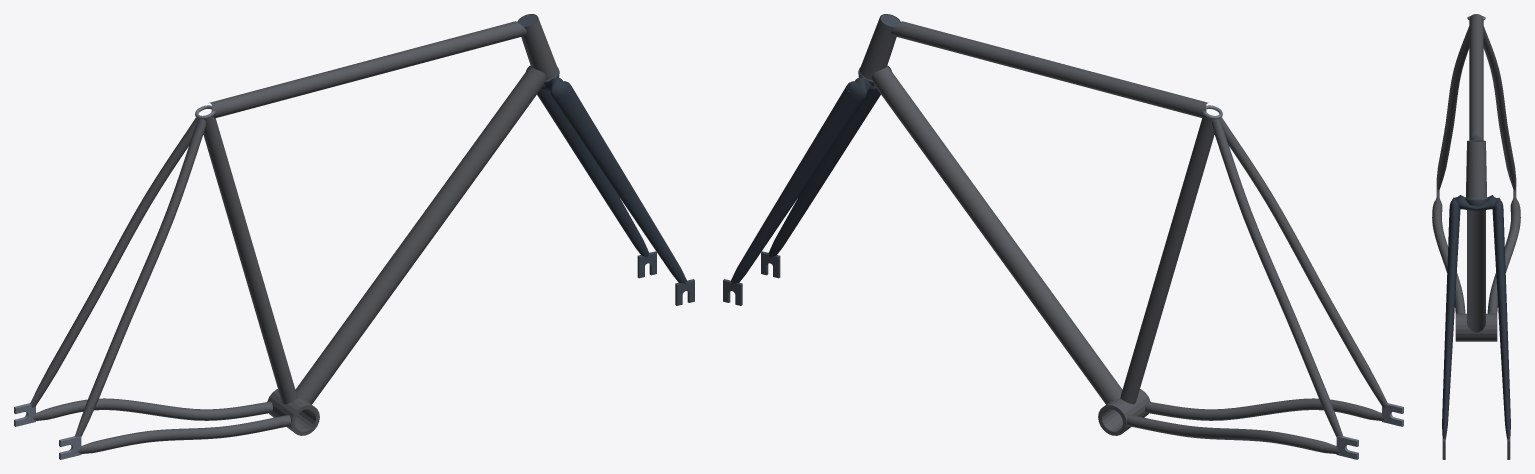
The model's file is wabi-prism-51.glb.
3 views of the same model, side by side, from view 1: azimuth 30°, elevation 25°; view 2: azimuth 150°, elevation 25°; view 3: azimuth 270°, elevation 25° (orthographic). The views are drawn at different scales.
Visible parts, largest first — view 1: paint_down, paint_top, paint_seat, fork_blade_1, paint_seatstay_1, paint_seatstay_-1, paint_chainstay_-1, paint_chainstay_1, fork_blade_-1, paint_bottom_bracket, paint_head; view 2: paint_down, paint_top, paint_seat, fork_blade_-1, paint_seatstay_-1, paint_seatstay_1, paint_chainstay_1, paint_chainstay_-1, fork_blade_1, paint_bottom_bracket, paint_head; view 3: paint_down, fork_blade_1, fork_blade_-1, paint_top, paint_seatstay_-1, paint_seatstay_1, paint_head, paint_chainstay_-1, paint_chainstay_1, paint_bottom_bracket, fork_crown, fork_headset_lower.
Boxes of the visible parts, x1=… form: paint_down: x1=295, y1=66, x2=545, y2=404; paint_top: x1=209, y1=21, x2=526, y2=117; paint_seat: x1=203, y1=116, x2=297, y2=404; fork_blade_1: x1=554, y1=87, x2=687, y2=284; paint_seatstay_1: x1=74, y1=119, x2=206, y2=436; paint_seatstay_-1: x1=30, y1=117, x2=198, y2=407; paint_chainstay_-1: x1=33, y1=398, x2=272, y2=420; paint_chainstay_1: x1=78, y1=415, x2=290, y2=454; fork_blade_-1: x1=537, y1=88, x2=649, y2=257; paint_bottom_bracket: x1=267, y1=389, x2=319, y2=435; paint_head: x1=517, y1=14, x2=558, y2=80; paint_down: x1=872, y1=66, x2=1122, y2=404; paint_top: x1=891, y1=21, x2=1208, y2=117; paint_seat: x1=1120, y1=116, x2=1214, y2=404; fork_blade_-1: x1=730, y1=87, x2=863, y2=284; paint_seatstay_-1: x1=1211, y1=119, x2=1343, y2=436; paint_seatstay_1: x1=1219, y1=117, x2=1387, y2=407; paint_chainstay_1: x1=1145, y1=398, x2=1384, y2=420; paint_chainstay_-1: x1=1127, y1=415, x2=1339, y2=454; fork_blade_1: x1=768, y1=88, x2=880, y2=257; paint_bottom_bracket: x1=1098, y1=389, x2=1150, y2=435; paint_head: x1=859, y1=14, x2=900, y2=80; paint_down: x1=1467, y1=210, x2=1485, y2=332; fork_blade_1: x1=1442, y1=208, x2=1460, y2=439; fork_blade_-1: x1=1492, y1=208, x2=1510, y2=439; paint_top: x1=1469, y1=14, x2=1483, y2=140; paint_seatstay_-1: x1=1483, y1=26, x2=1516, y2=190; paint_seatstay_1: x1=1436, y1=26, x2=1469, y2=190; paint_head: x1=1466, y1=140, x2=1486, y2=198; paint_chainstay_-1: x1=1487, y1=197, x2=1520, y2=313; paint_chainstay_1: x1=1432, y1=197, x2=1465, y2=313; paint_bottom_bracket: x1=1455, y1=313, x2=1497, y2=341; fork_crown: x1=1449, y1=195, x2=1503, y2=210; fork_headset_lower: x1=1465, y1=197, x2=1487, y2=205.
Size of the model in its own units: 1.02 by 0.538 by 0.1444.
